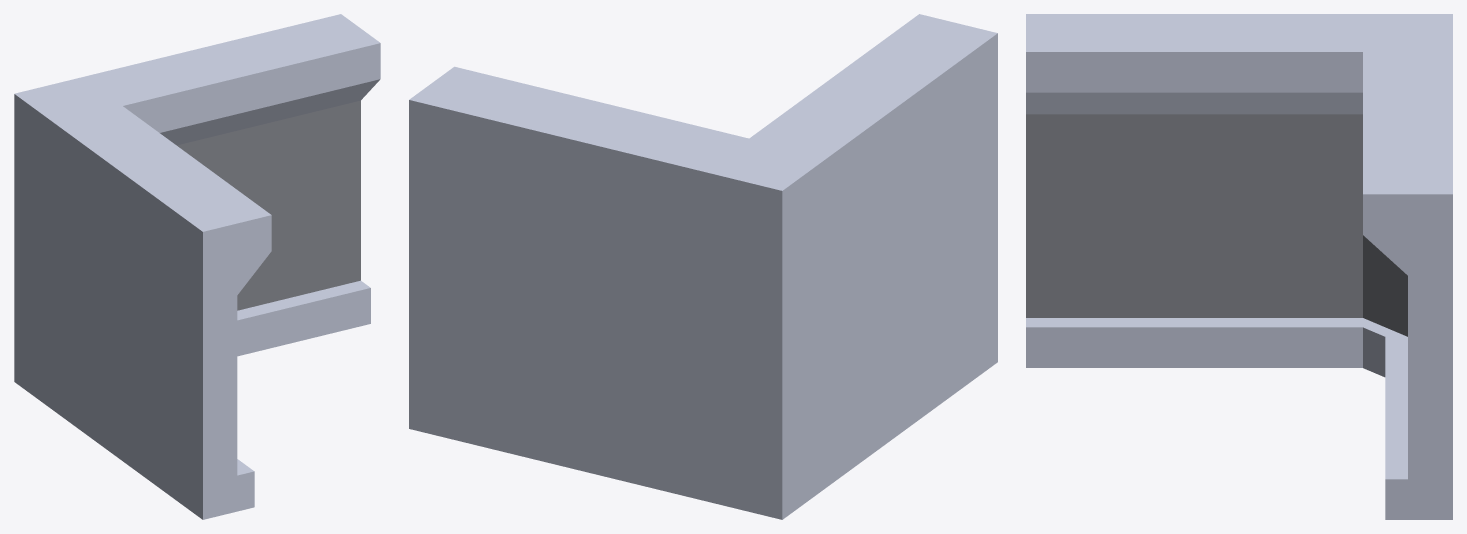
The model's file is spaceInterior_058.obj.
The picture shows the model from 3 angles, left to right: view 1: azimuth 30°, elevation 25°; view 2: azimuth 150°, elevation 25°; view 3: azimuth 270°, elevation 25°; orthographic projection. The views are drawn at different scales.
Parts seen in each view (by area): view 1: Mesh1 Group1 Model; view 2: Mesh1 Group1 Model; view 3: Mesh1 Group1 Model.
Part boxes in pixels (bbox=[...]): Mesh1 Group1 Model: bbox=[14, 14, 380, 519]; Mesh1 Group1 Model: bbox=[409, 14, 997, 519]; Mesh1 Group1 Model: bbox=[1026, 14, 1452, 519].
Bounding box in the file's own units: 1.19 × 1 × 1.19.
